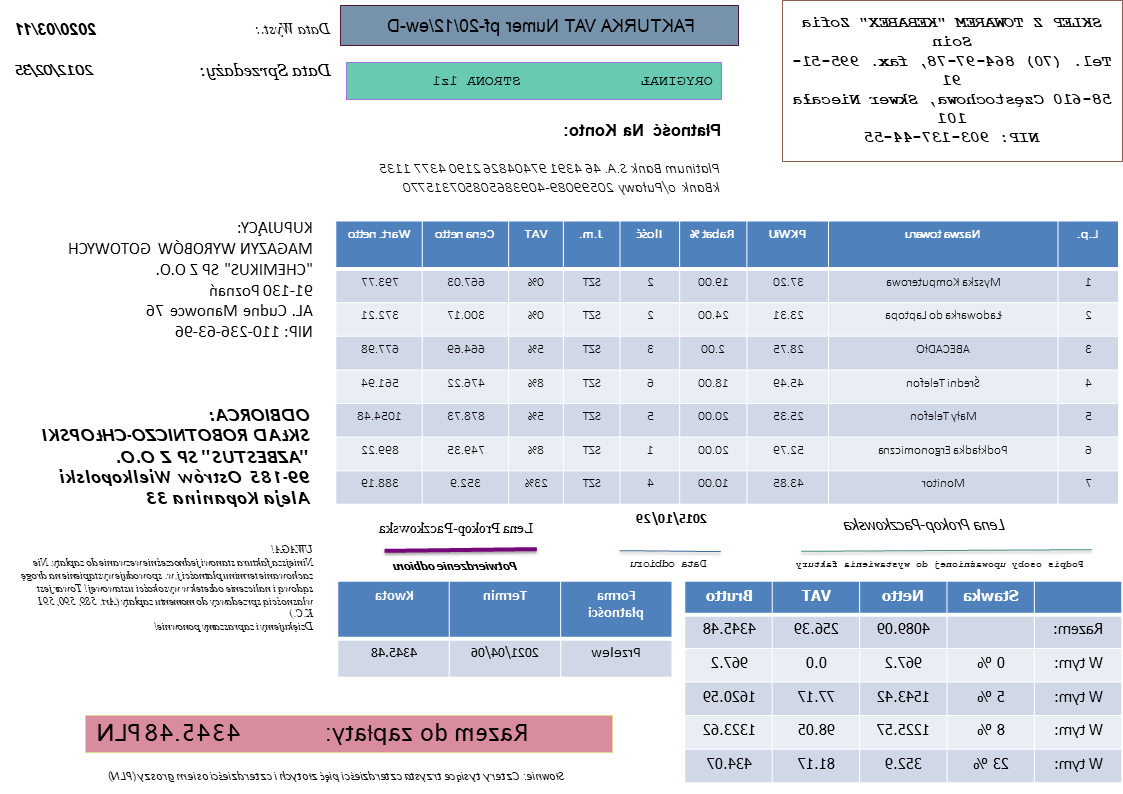Table: (334, 220, 1121, 506), (683, 580, 1122, 785), (336, 580, 673, 678)
TextBox: (789, 14, 1117, 144), (65, 216, 316, 341), (40, 405, 312, 509), (17, 541, 316, 635), (377, 159, 724, 196), (96, 720, 529, 747), (383, 13, 698, 38), (105, 768, 566, 784), (429, 72, 714, 89), (794, 558, 1087, 571), (841, 515, 1008, 535), (561, 120, 723, 140), (379, 518, 537, 537), (197, 61, 333, 82), (392, 557, 520, 573), (14, 20, 98, 38), (254, 19, 332, 38), (14, 61, 96, 79), (634, 509, 709, 528), (629, 556, 709, 571)
